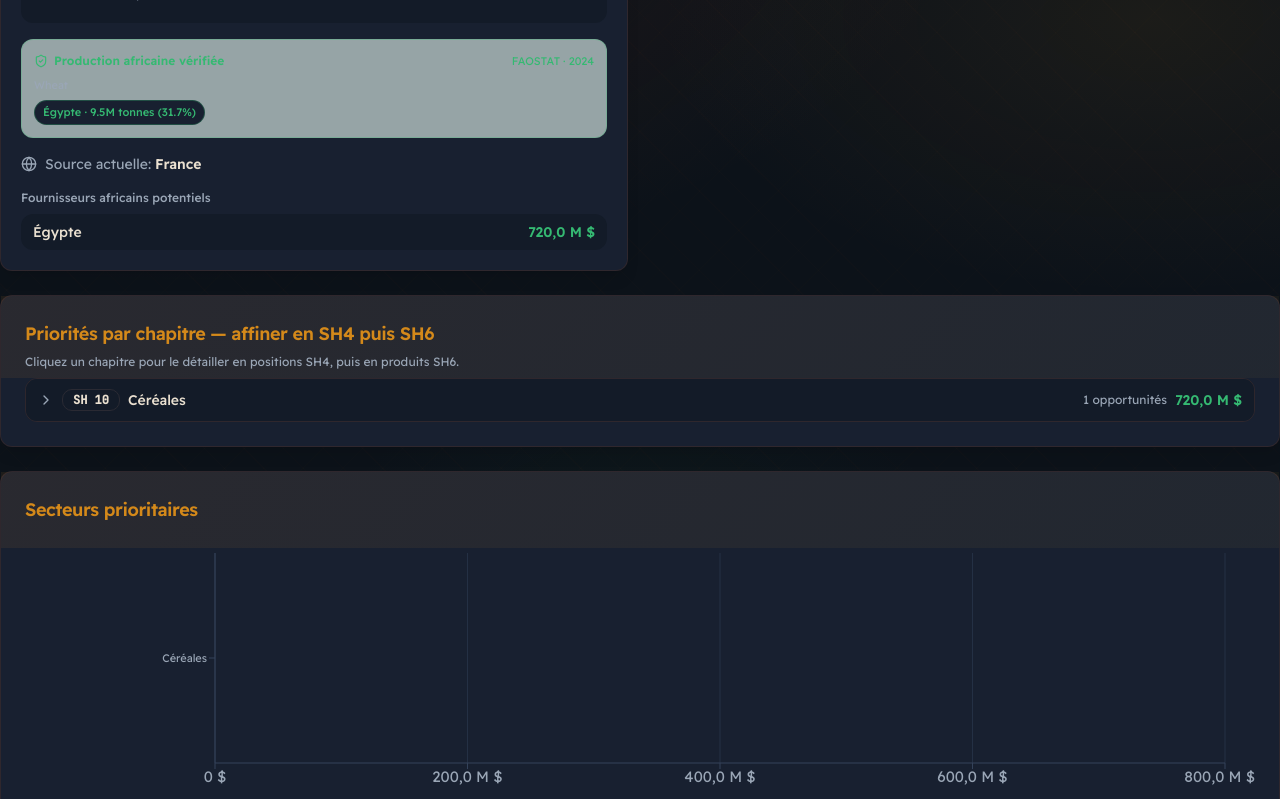
it: SubstitutionAnalysis — PDF export carries the loaded results › renders the enriched panels (analysis summary, verified production, hierarchy) from the payload
This screenshot has width=1280, height=799.
(page scrolled)
Expected: the element with test id "verified-production" shows "Égypte", [43,105,81,119]
Expected: the element with test id "verified-production" shows "FAOSTAT", [512,54,560,68]
Click the button with test id "hierarchy-chapter-10" at coordinates (91, 400), box [26,379,1254,421]
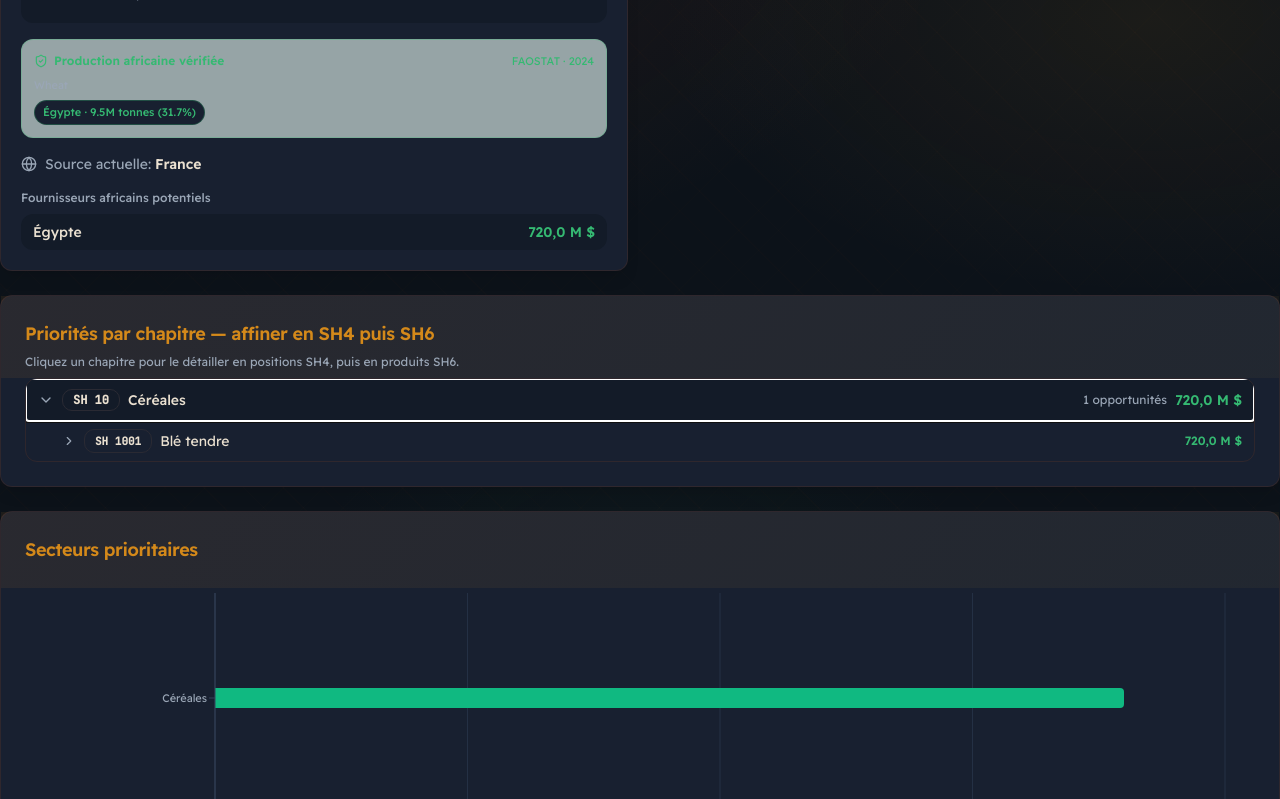
Click the button with test id "hierarchy-hs4-1001" at coordinates (118, 441), box [26,421,1254,461]
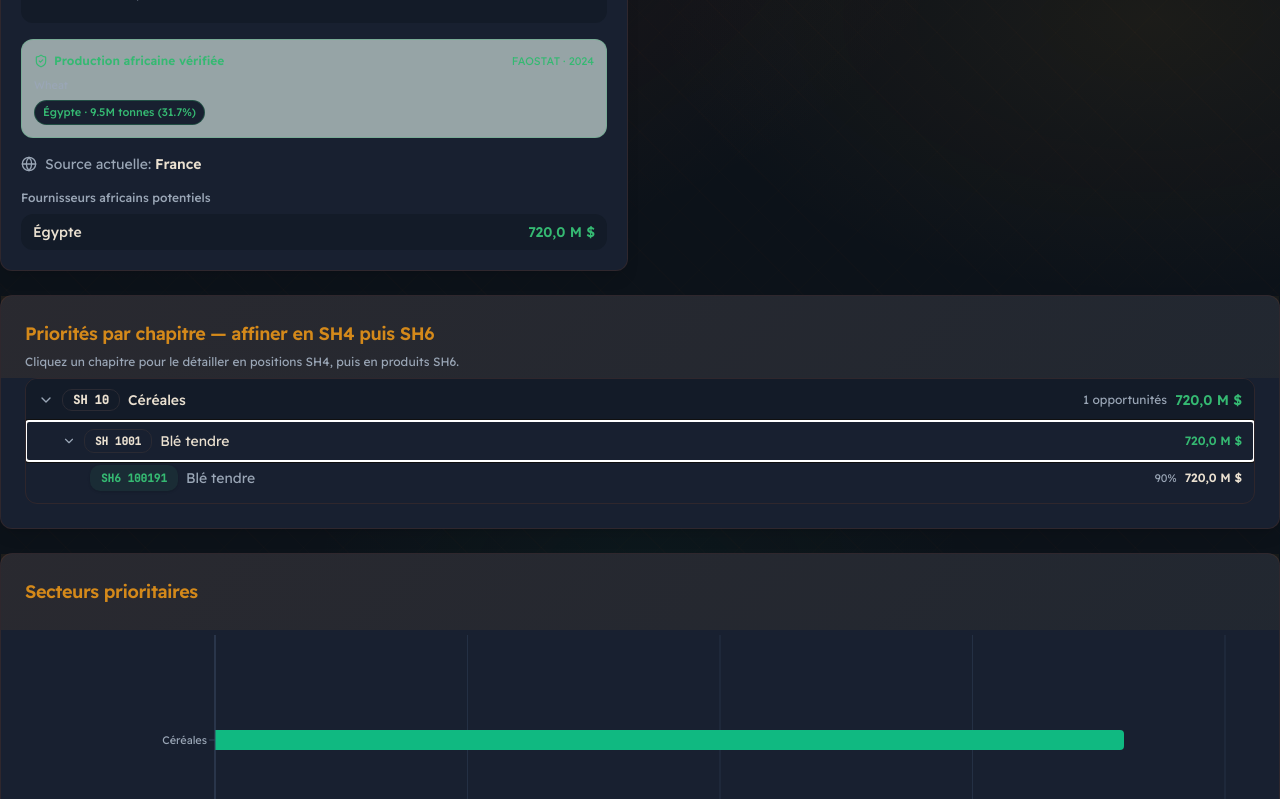
Expected: the element with test id "hierarchy-hs6-100191" shows "Blé tendre", [186,469,255,487]
